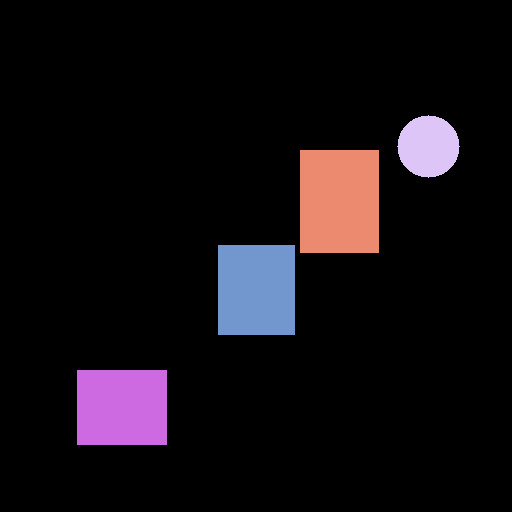circle: (397, 115, 459, 177)
rectangle: (300, 150, 378, 252), (218, 245, 294, 334), (77, 370, 166, 444)
